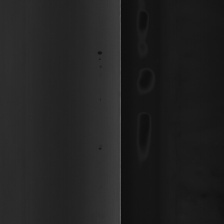oil_spot: (96, 41, 105, 77), (96, 140, 106, 157)
